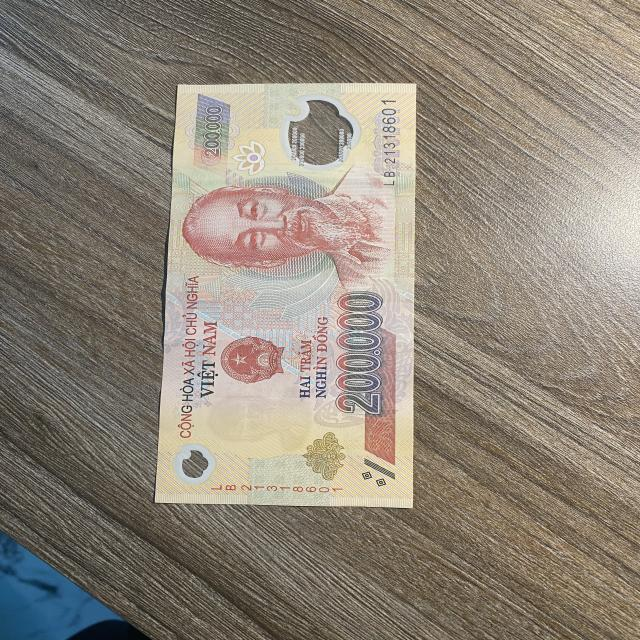200 000 VND: (152, 82, 419, 509)
